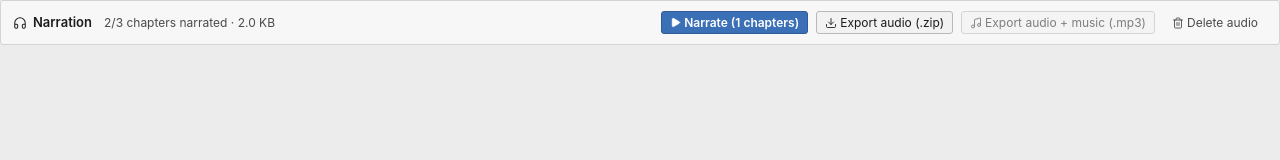
Test: NarrationPanel export › shows an export failure
This screenshot has width=1280, height=160.
Click the button "Export audio (.zip)".
click(885, 23)  # box [816,11,953,34]
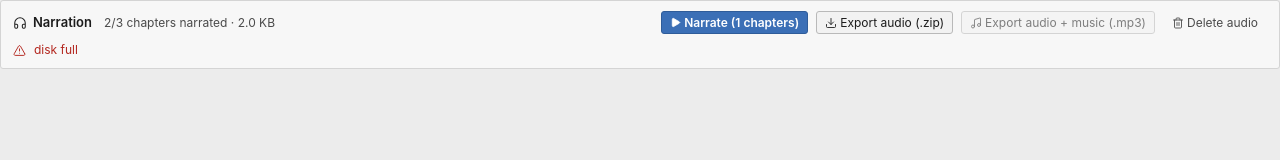
Expected: the message reads "disk full", [34,42,78,57]
